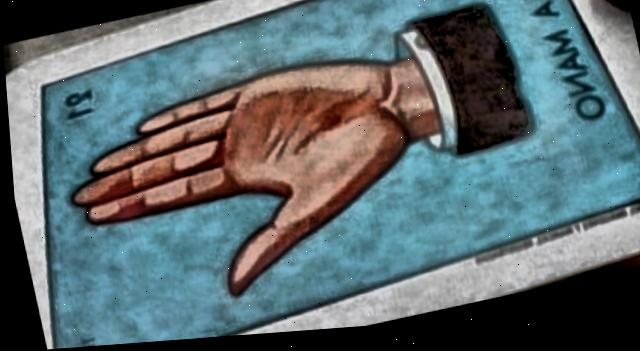La Mano: (42, 0, 640, 349)
